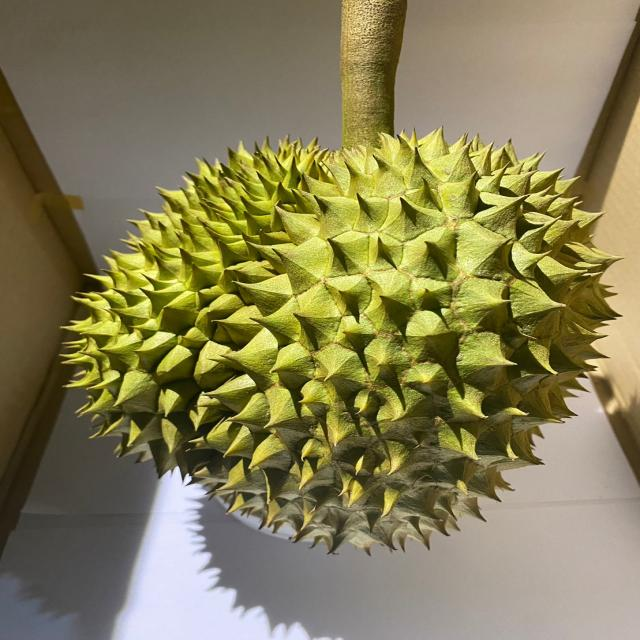immature: (58, 130, 624, 560)
